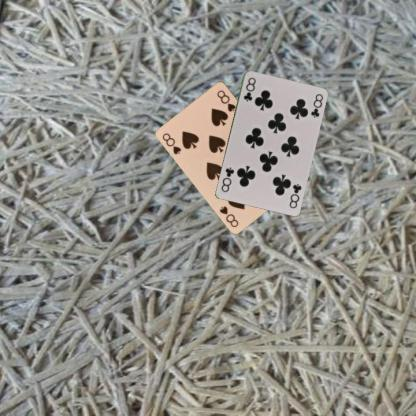8c: (241, 74, 257, 103), (286, 181, 302, 209)
8s: (160, 131, 183, 156)
